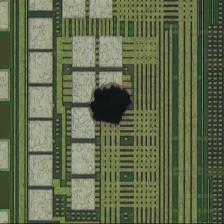PARTICLE: (89, 83, 134, 127)
